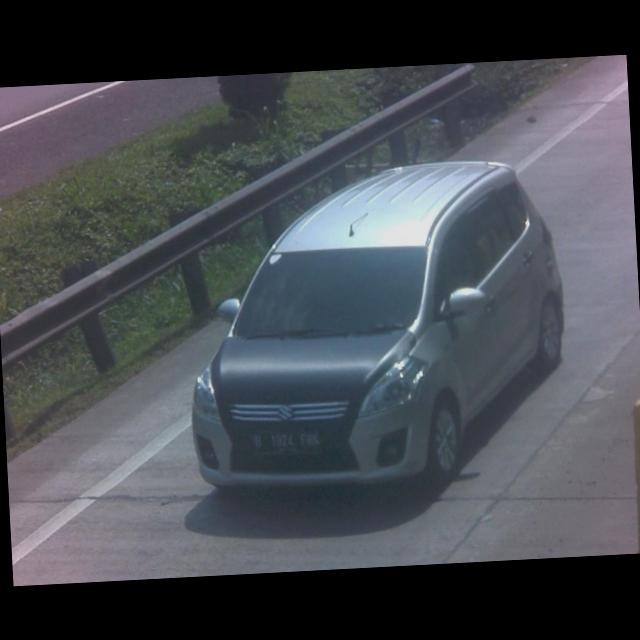plate: (249, 426, 320, 456)
